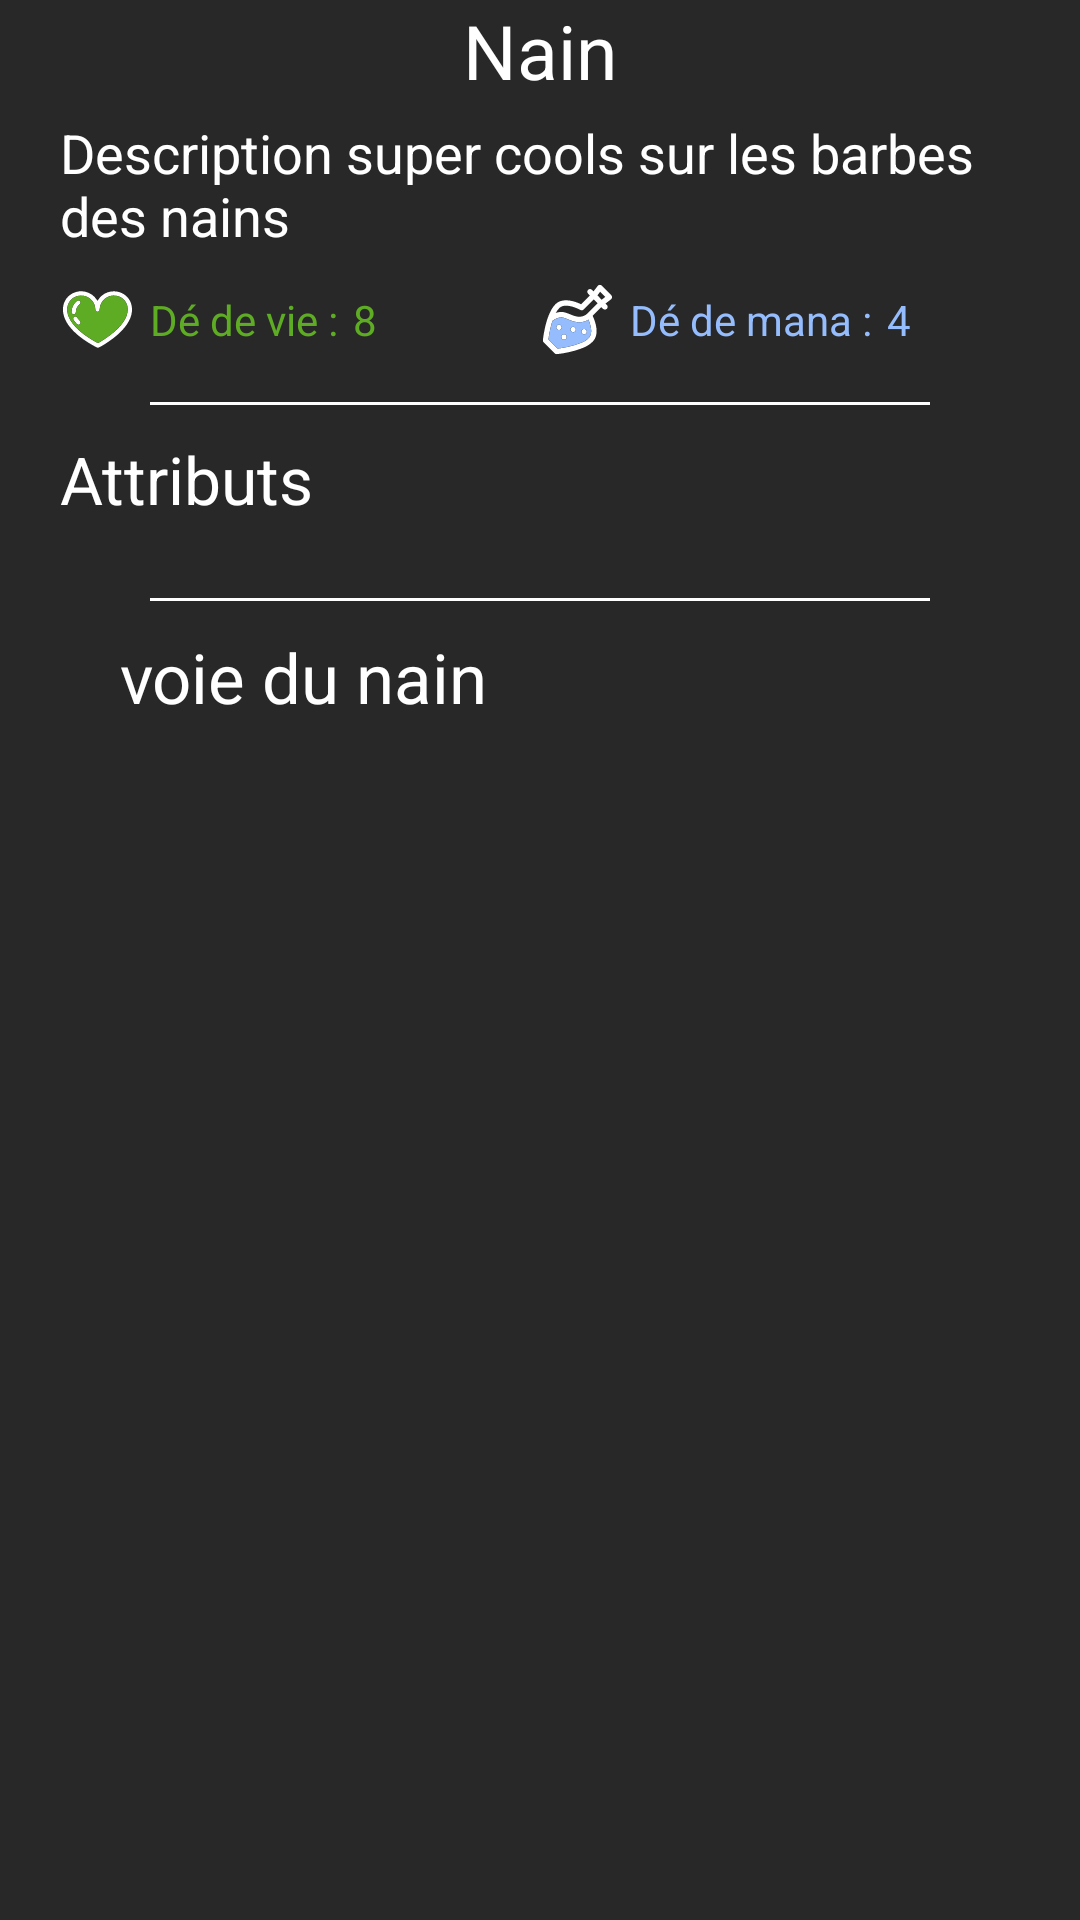

Screen size 1080x1920. Icon name, then its box in pixels as (left=x1, top=y1, right=x2, bottom=y2):
heart: (left=63, top=291, right=132, bottom=348)
